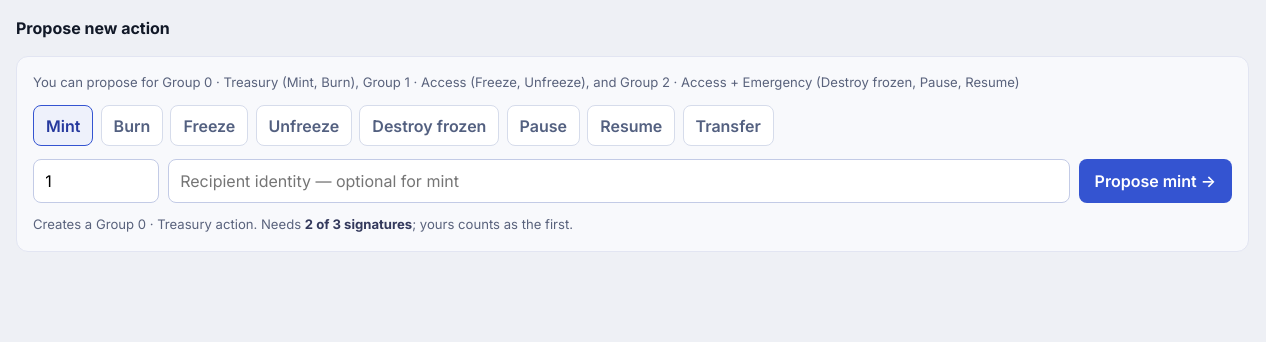
ProposeActionPanel › surfaces the app's current whole-base-unit input limitation
Click the tab "Transfer" at coordinates (728, 126), box [682,106,774,146]
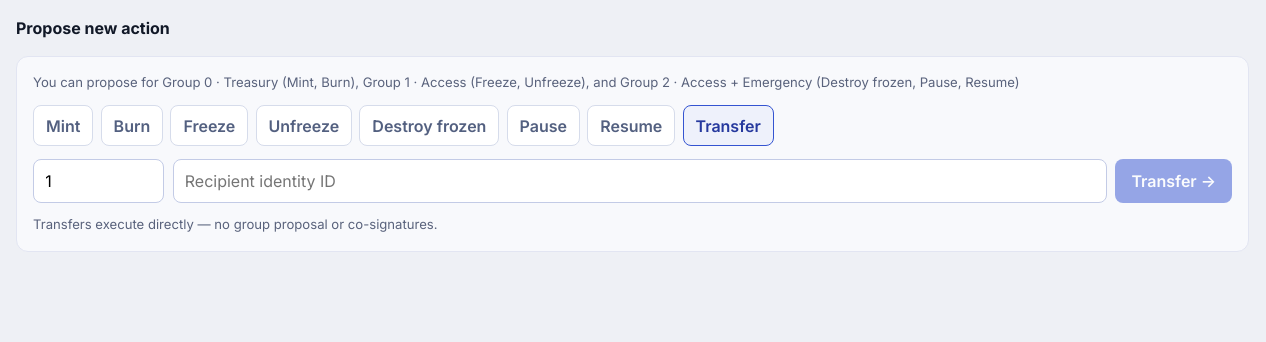
Replace the text in the field named "Transfer amount" with "1.5" at coordinates (98, 181), box [33,159,164,203]
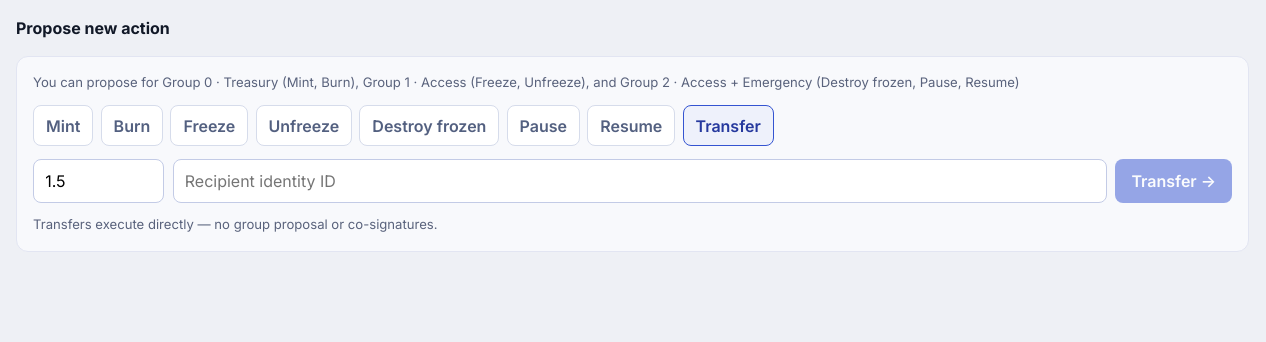
Type "recipient-id" into the field named "Transfer recipient identity ID" at coordinates (640, 181), box [173,159,1107,203]
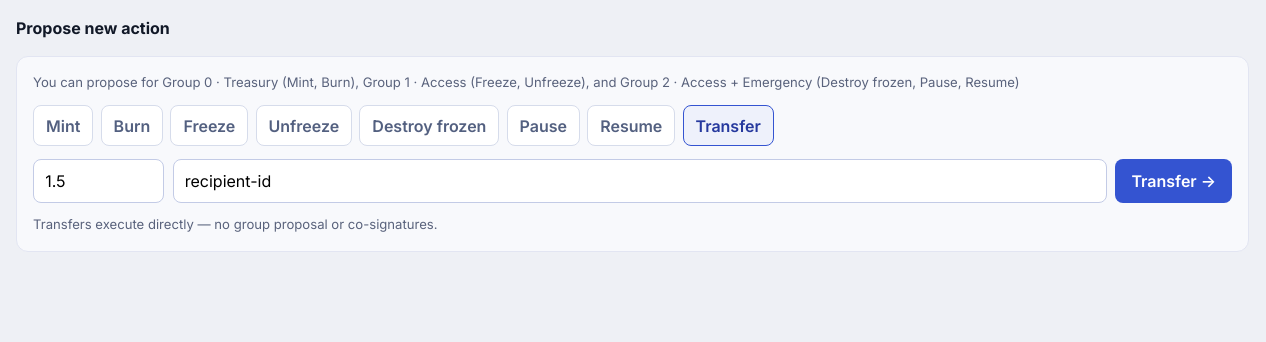
Click the button "Transfer →" at coordinates (1174, 181), box [1115,159,1232,203]
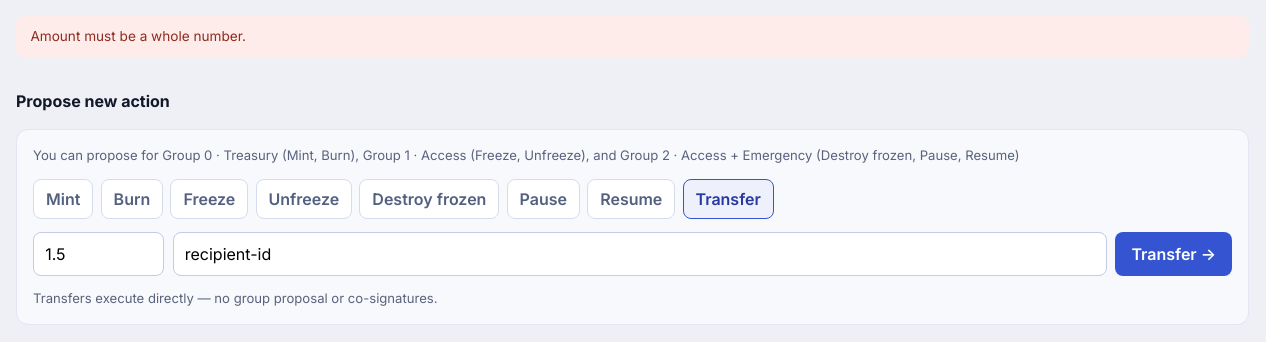
Check: the text "Amount must be a whole number." is shown, box [16,16,1249,57]
